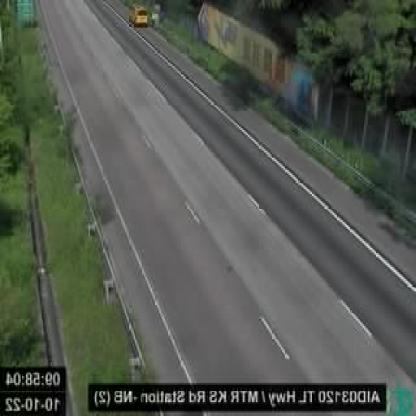Truck: (126, 2, 151, 28)
